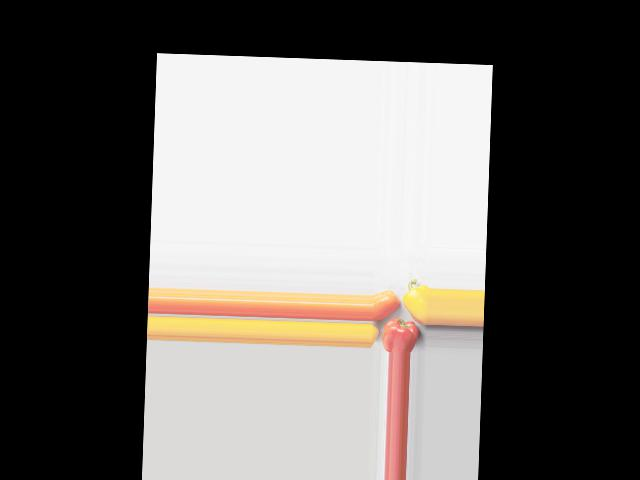bell_pepper: (381, 317, 420, 352)
